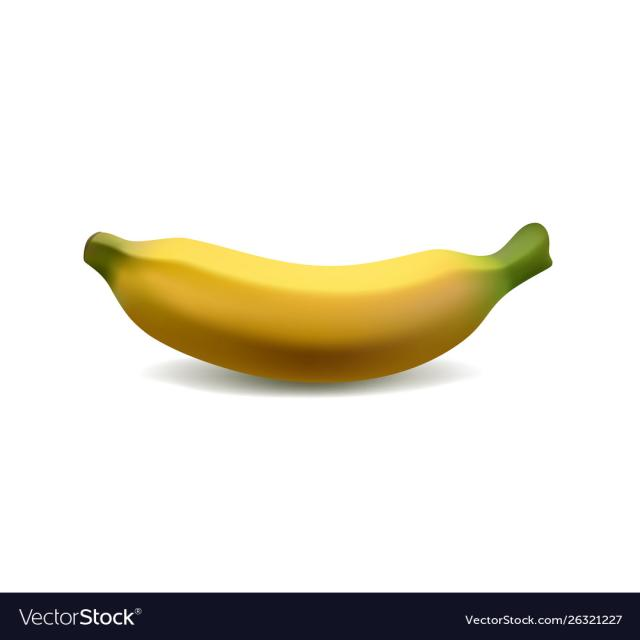non_orange: (86, 220, 555, 388)
